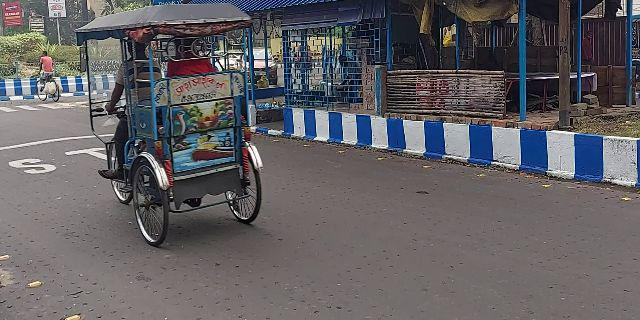Rickshaw: (80, 5, 287, 251)
